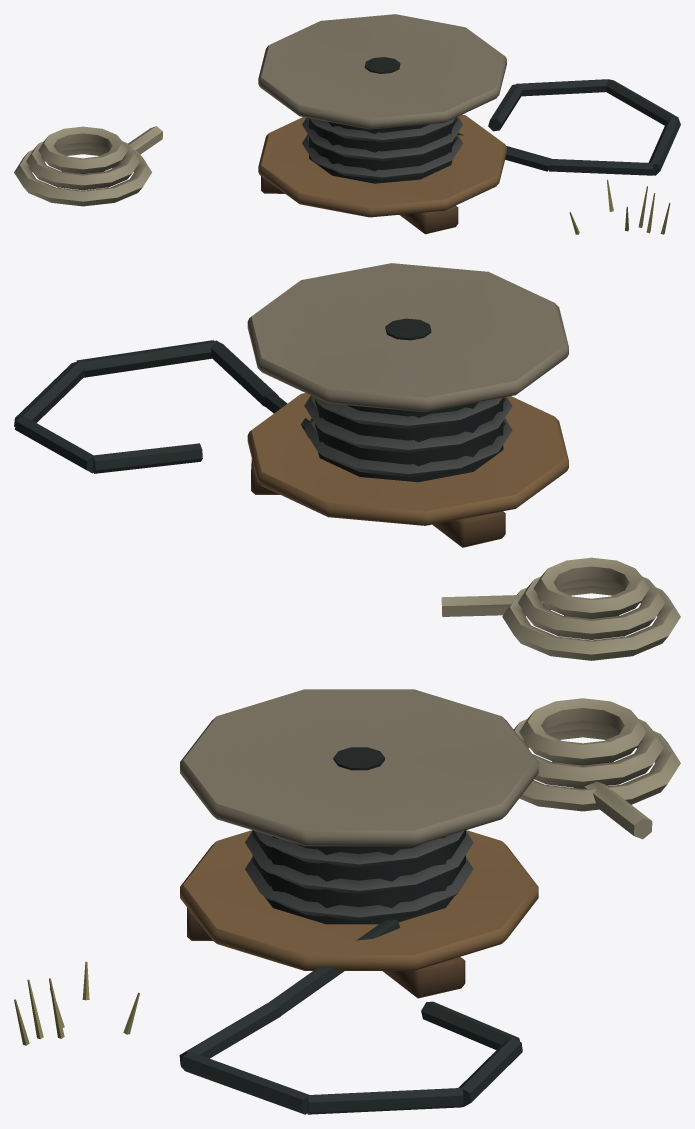
The model's file is cable_drum_b.glb.
The picture shows the model from 3 angles, top to bottom: view 1: azimuth 30°, elevation 25°; view 2: azimuth 150°, elevation 25°; view 3: azimuth 270°, elevation 25°; orthographic projection. The views are drawn at different scales.
Parts seen in each view (by area): view 1: Surface; view 2: Surface; view 3: Surface.
Boxes of the visible parts, left/top/right/bottom form: Surface: left=14, top=14, right=680, bottom=234; Surface: left=14, top=263, right=680, bottom=660; Surface: left=14, top=689, right=680, bottom=1114.
Bounding box in the file's own units: 7.99 × 1.68 × 5.82.
